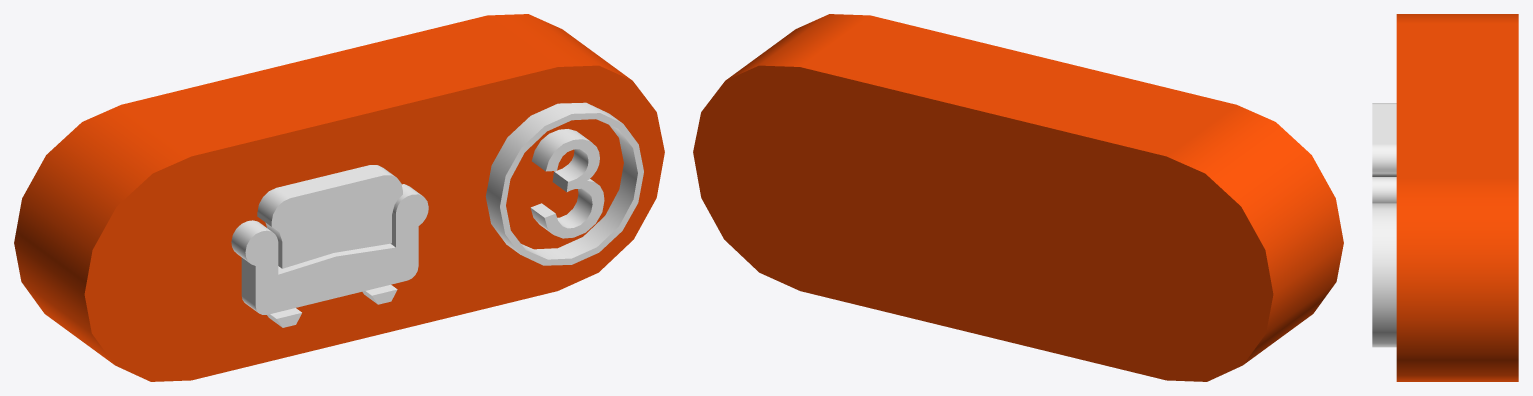
Rendered from Couch_3.fbx.
3 renders of one model, left to right at view 1: azimuth 30°, elevation 25°; view 2: azimuth 150°, elevation 25°; view 3: azimuth 270°, elevation 25°, orthographic. The views are drawn at different scales.
Visible parts, largest first — view 1: Orange, Object_12, Object_11, Object_1, Object_4, Object_7, Object_8; view 2: Orange; view 3: Orange, Object_1, Object_11, Object_7, Object_12.
Boxes of the visible parts, x1,y1,x2,y2 form: Orange: (14, 14, 664, 381); Object_12: (231, 184, 428, 314); Object_11: (257, 165, 402, 268); Object_1: (485, 102, 643, 265); Object_4: (530, 129, 604, 238); Object_7: (257, 165, 402, 268); Object_8: (241, 212, 395, 305); Orange: (693, 14, 1343, 381); Orange: (1396, 14, 1518, 381); Object_1: (1372, 203, 1396, 347); Object_11: (1372, 103, 1396, 176); Object_7: (1372, 104, 1396, 176); Object_12: (1372, 177, 1396, 203).
Size of the model in its own units: 4.75 by 1.2 by 1.75.
